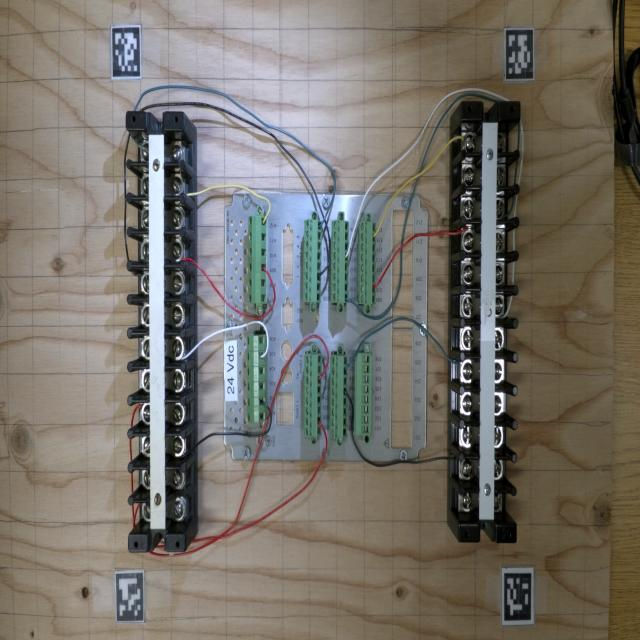Flathead_Block: (127, 111, 186, 551)
Phillips_Block: (459, 101, 520, 543)
Terminal_1: (247, 335, 267, 423), (248, 216, 267, 304)
Terminal_2: (303, 219, 322, 303), (330, 355, 348, 439), (304, 354, 322, 437), (358, 221, 376, 304), (331, 220, 349, 303)
